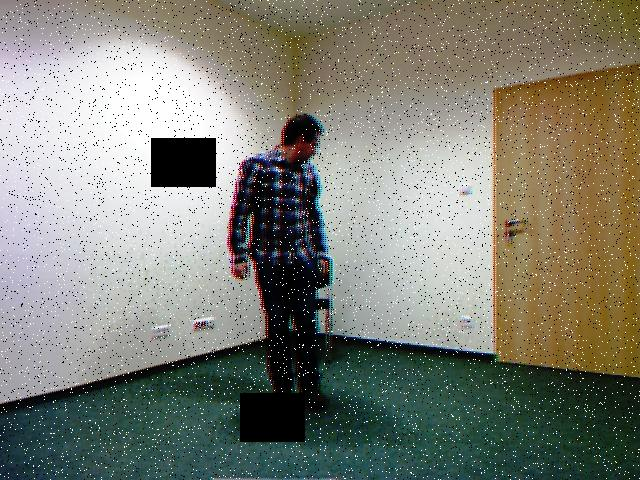walking: (220, 111, 350, 424)
